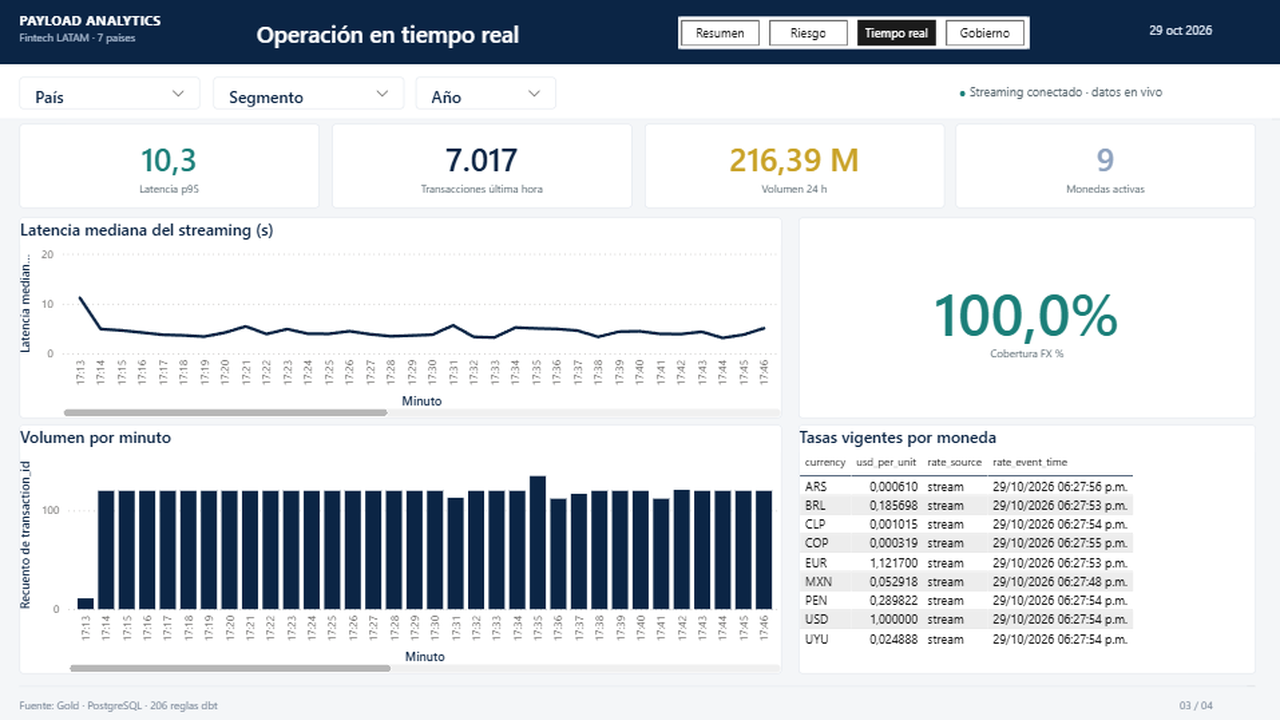

Layout of this report page (visuals, bound fields, positions):
{"tool":"powerbi","page":{"name":"Tiempo real","canvas":[1280,720],"ordinal":2},"visuals":[{"type":"textbox","box":[0,0,1280,720],"z":0},{"type":"textbox","box":[0,64,1280,56],"z":100},{"type":"textbox","box":[24,684,1232,1],"z":100},{"type":"textbox","box":[0,119,1280,1],"z":101},{"type":"slicer","fields":{"Values":["gold dim_customer.country"]},"box":[24,77,180,32],"z":200},{"type":"slicer","fields":{"Values":["gold dim_customer.customer_segment"]},"box":[216,77,190,32],"z":200},{"type":"slicer","fields":{"Values":["gold dim_date.year"]},"box":[418,77,140,32],"z":200},{"type":"card","fields":{"Values":["Medidas.Latencia p95"]},"box":[24,124,299,84],"z":200},{"type":"card","fields":{"Values":["Medidas.Transacciones última hora"]},"box":[335,124,299,84],"z":200},{"type":"card","fields":{"Values":["Medidas.Volumen 24 h"]},"box":[646,124,299,84],"z":200},{"type":"card","fields":{"Values":["Medidas.Monedas activas"]},"box":[957,124,299,84],"z":200},{"type":"lineChart","title":"Latencia mediana del streaming (s)","fields":{"Category":["gold fct_live_transactions.Minuto"],"Y":["Medidas.Latencia mediana (s)"]},"box":[24,216,760,200],"z":200},{"type":"card","fields":{"Values":["Medidas.Cobertura FX %"]},"box":[800,216,456,200],"z":200},{"type":"clusteredColumnChart","title":"Volumen por minuto","fields":{"Category":["gold fct_live_transactions.Minuto"],"Y":["CountNonNull(gold fct_live_transactions.transaction_id)"]},"box":[24,424,760,248],"z":200},{"type":"tableEx","title":"Tasas vigentes por moneda","fields":{"Values":["gold dim_fx_rate_current.currency","gold dim_fx_rate_current.usd_per_unit","gold dim_fx_rate_current.rate_source","gold dim_fx_rate_current.rate_event_time"]},"box":[800,424,456,248],"z":200},{"type":"textbox","box":[0,0,1280,64],"z":1000},{"type":"textbox","box":[680,16,350,32],"z":1090},{"type":"textbox","box":[24,10,230,44],"z":1100},{"type":"pageNavigator","box":[680,16,350,32],"z":1100},{"type":"textbox","box":[260,18,430,30],"z":1100},{"type":"textbox","box":[1150,21,106,22],"z":1100},{"type":"textbox","box":[960,84,296,20],"z":1100},{"type":"textbox","box":[24,694,900,16],"z":1100},{"type":"textbox","box":[1180,694,76,16],"z":1100},{"type":"textbox","box":[0,0,4,64],"z":1200}]}

Visuals, with their boxes in screenshot pixels (x1, y1, x2, y2), scaled from the page's 1280x720 canvas onto the 1280x720 screenshot:
textbox: left=0, top=0, right=1279, bottom=719
textbox: left=0, top=64, right=1279, bottom=120
textbox: left=24, top=684, right=1256, bottom=685
textbox: left=0, top=119, right=1279, bottom=120
slicer - gold dim_customer.country: left=24, top=77, right=204, bottom=109
slicer - gold dim_customer.customer_segment: left=216, top=77, right=406, bottom=109
slicer - gold dim_date.year: left=418, top=77, right=558, bottom=109
card - Medidas.Latencia p95: left=24, top=124, right=323, bottom=208
card - Medidas.Transacciones última hora: left=335, top=124, right=634, bottom=208
card - Medidas.Volumen 24 h: left=646, top=124, right=945, bottom=208
card - Medidas.Monedas activas: left=957, top=124, right=1256, bottom=208
"Latencia mediana del streaming (s)" lineChart: left=24, top=216, right=784, bottom=416
card - Medidas.Cobertura FX %: left=800, top=216, right=1256, bottom=416
"Volumen por minuto" clusteredColumnChart: left=24, top=424, right=784, bottom=672
"Tasas vigentes por moneda" tableEx: left=800, top=424, right=1256, bottom=672
textbox: left=0, top=0, right=1279, bottom=64
textbox: left=680, top=16, right=1030, bottom=48
textbox: left=24, top=10, right=254, bottom=54
pageNavigator: left=680, top=16, right=1030, bottom=48
textbox: left=260, top=18, right=690, bottom=48
textbox: left=1150, top=21, right=1256, bottom=43
textbox: left=960, top=84, right=1256, bottom=104
textbox: left=24, top=694, right=924, bottom=710
textbox: left=1180, top=694, right=1256, bottom=710
textbox: left=0, top=0, right=4, bottom=64
